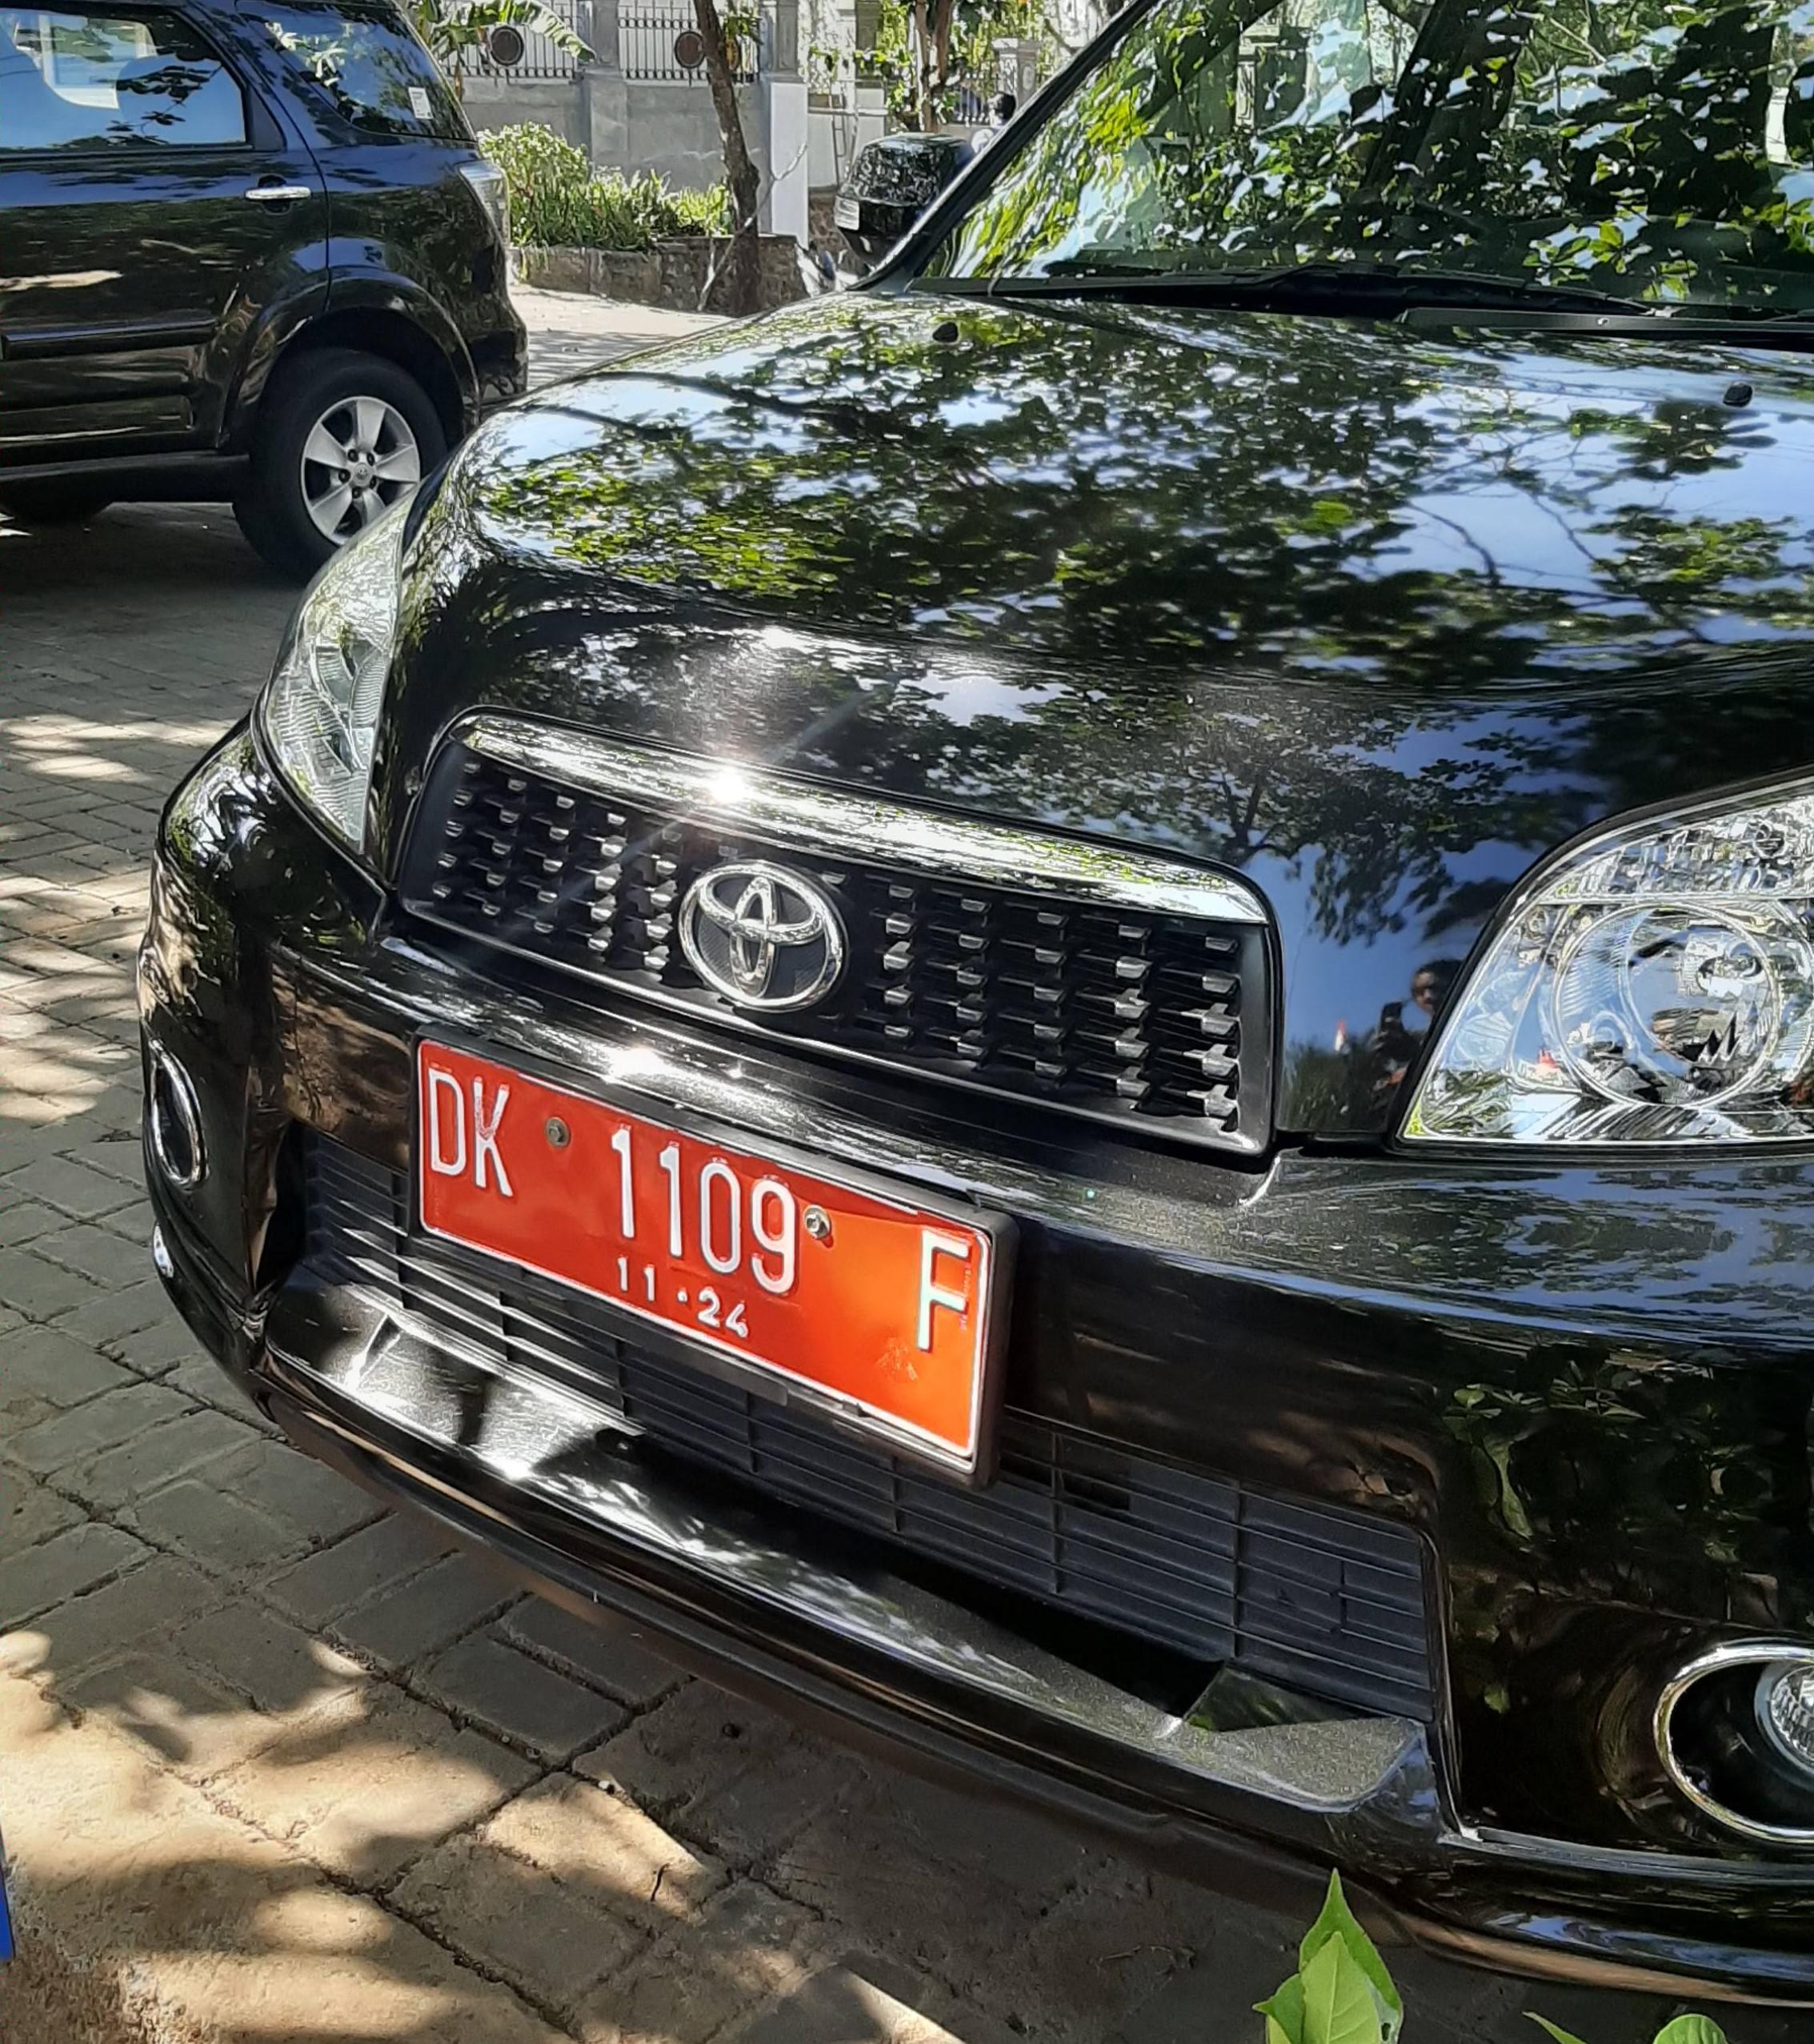plate: (412, 1036, 984, 1488)
